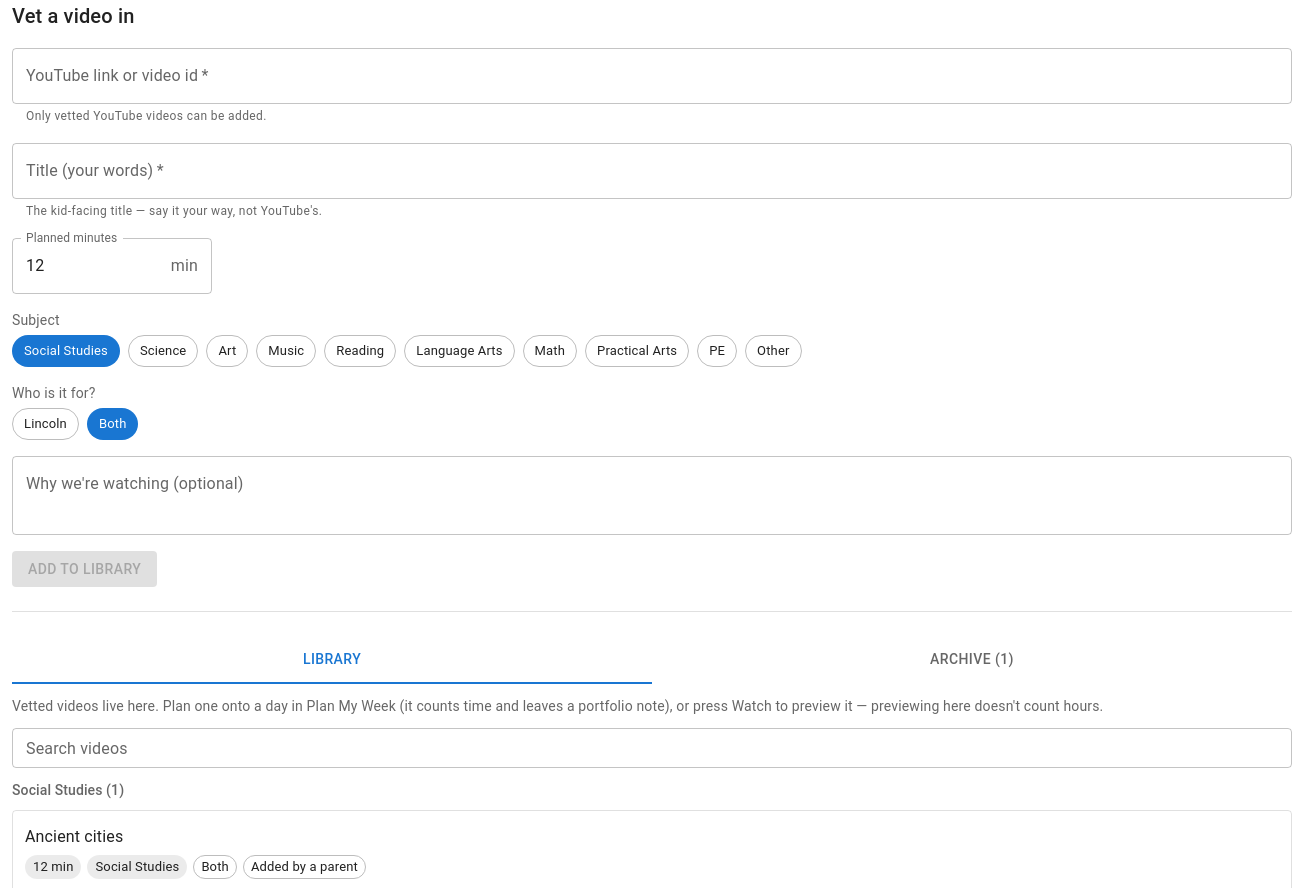
Test: WatchLibraryTab retire (FEAT-129) › keeps retired videos out of the active library entirely
The width and height of the screenshot is (1304, 888).
Expected: the text "Retired one" is not shown
Click the tab "Archive (1)" at {"x": 972, "y": 660}, box [652, 636, 1292, 684]
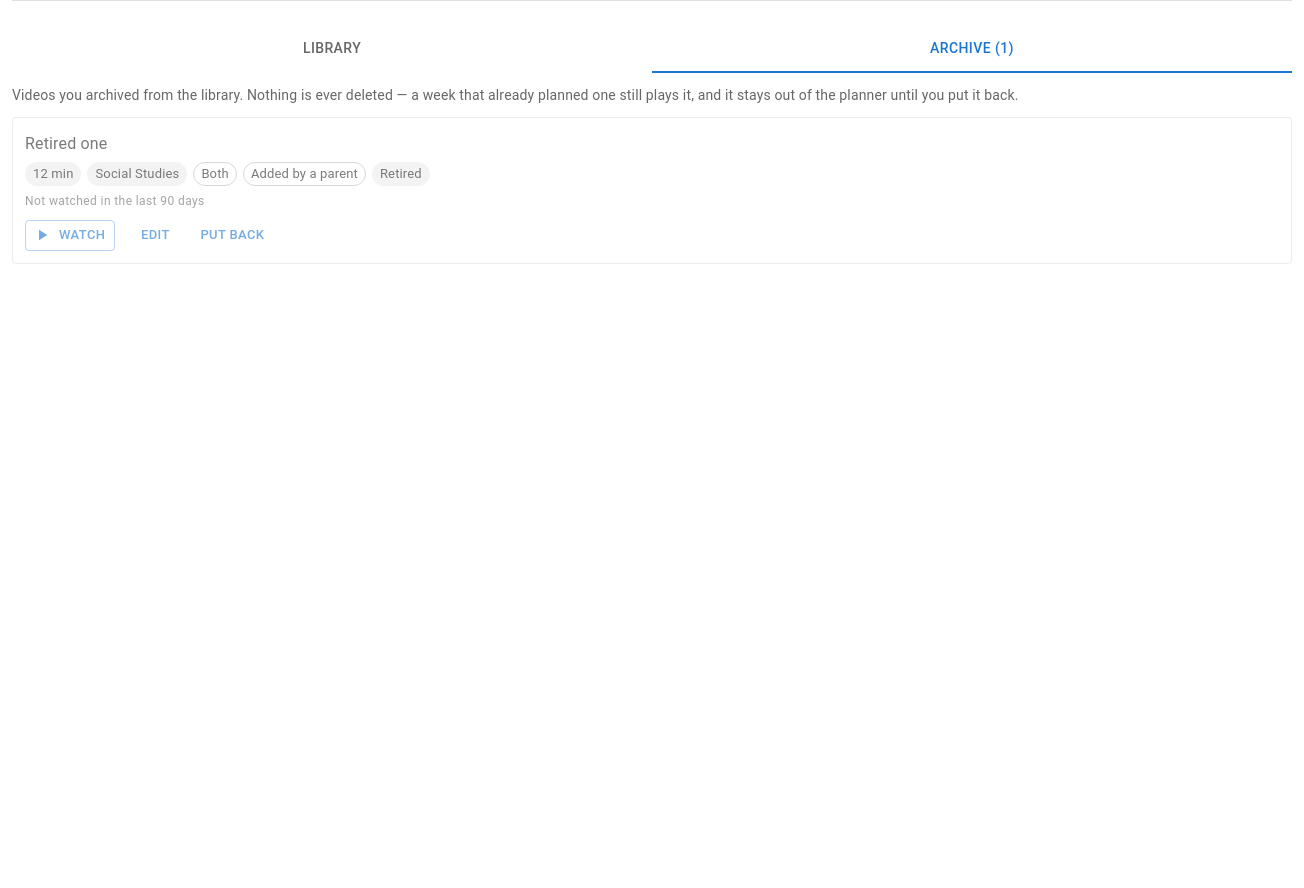
Now the heading "Retired one" is shown, box [25, 134, 107, 153]
